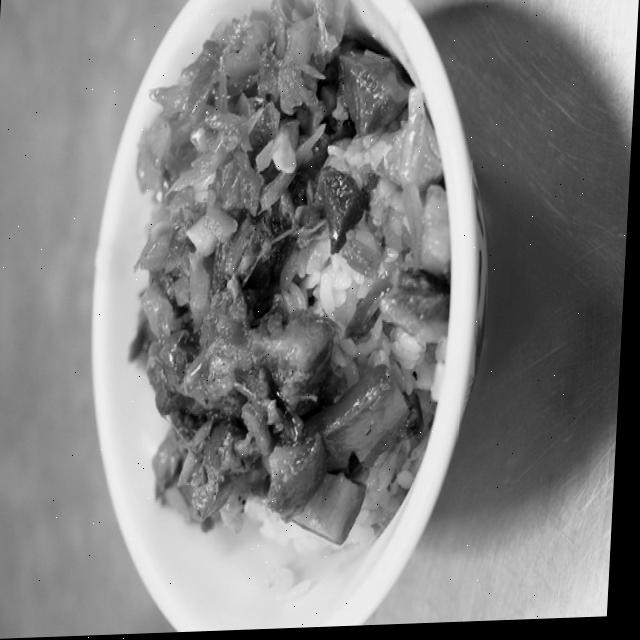猪肉菜式: (66, 0, 502, 637)
